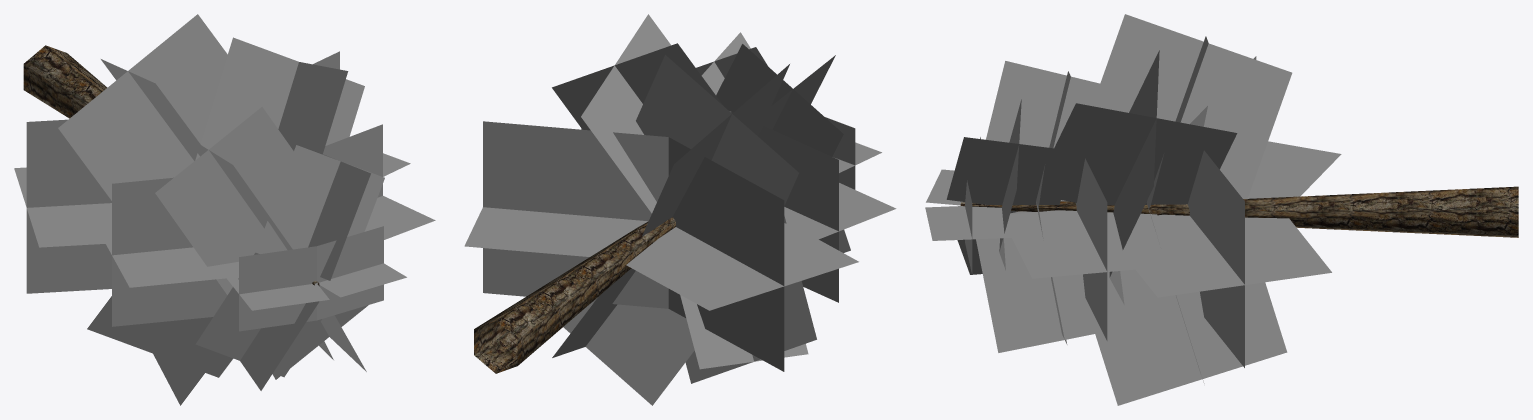
The model's file is great_pine_bb1.obj.
3 views of the same model, side by side, from view 1: azimuth 30°, elevation 25°; view 2: azimuth 150°, elevation 25°; view 3: azimuth 270°, elevation 25° (orthographic). The views are drawn at different scales.
Visible parts, largest first — view 1: plant_pmat3_cross, plant_pmat3, plant_pmat1; view 2: plant_pmat3_cross, plant_pmat3, plant_pmat1; view 3: plant_pmat3, plant_pmat3_cross, plant_pmat1.
Boxes of the visible parts, <box> form: plant_pmat3_cross: <box>26,14,384,379</box>; plant_pmat3: <box>14,59,435,405</box>; plant_pmat1: <box>23,45,319,285</box>; plant_pmat3_cross: <box>483,43,855,405</box>; plant_pmat3: <box>464,14,896,369</box>; plant_pmat1: <box>474,217,675,373</box>; plant_pmat3: <box>925,14,1341,405</box>; plant_pmat3_cross: <box>965,36,1256,383</box>; plant_pmat1: <box>960,186,1518,237</box>.
Bounding box in the file's own units: 5.37 × 4.99 × 7.78.
